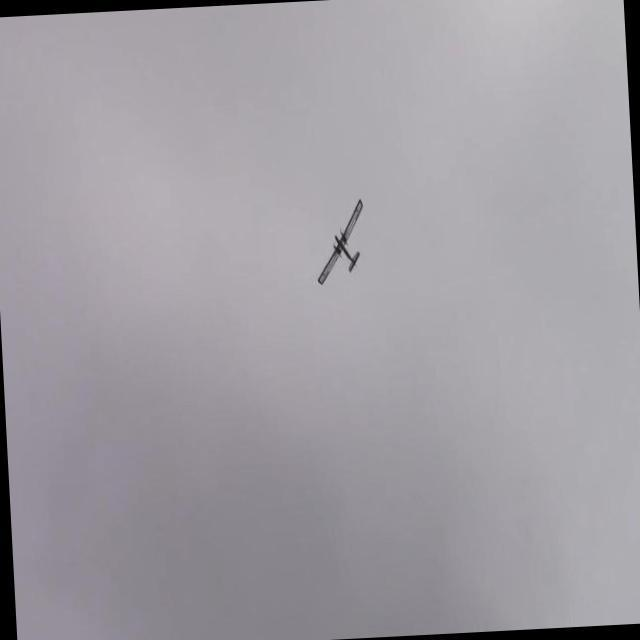iha: (343, 217, 357, 256)
